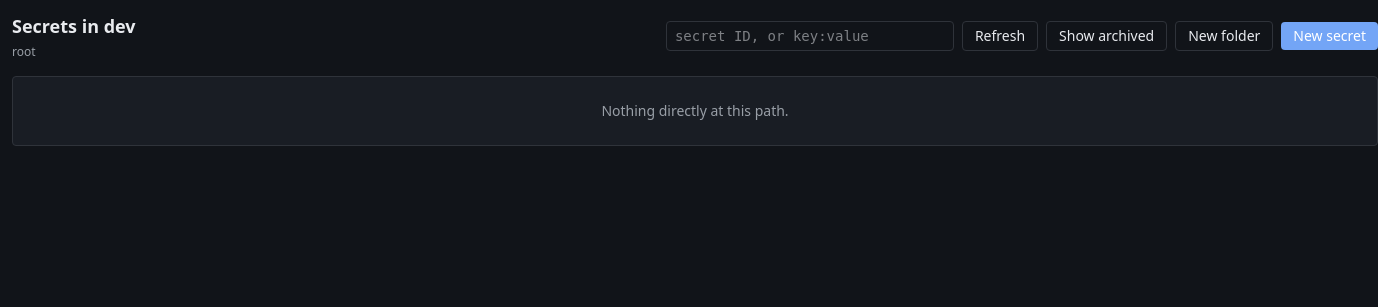
Scenario: SecretsCatalog search › renders the incomplete-results warning when the server truncated the search
This screenshot has width=1378, height=307.
Type "stripe" into the search field with id "catalog-filter" at {"x": 810, "y": 36}, box [666,21,954,51]
Wait 300 ms
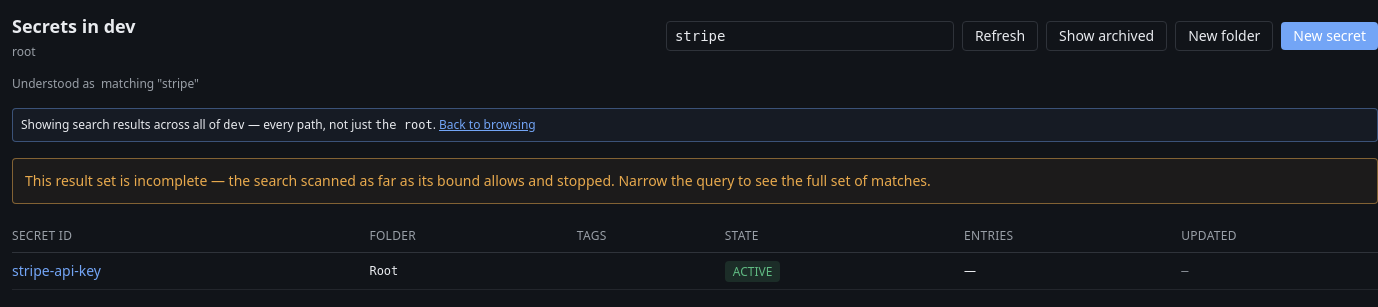
Now the text "incomplete" is shown, box [25,171,931,190]
